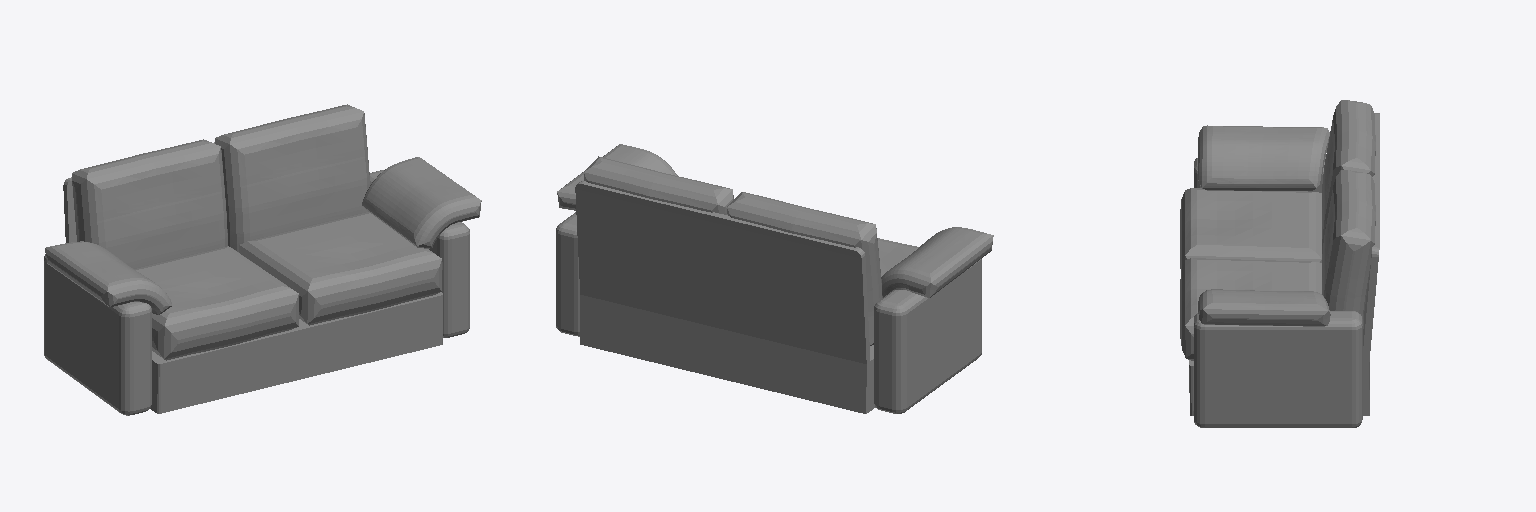
The model's file is Sofa.obj.
3 renders of one model, left to right at view 1: azimuth 30°, elevation 25°; view 2: azimuth 150°, elevation 25°; view 3: azimuth 270°, elevation 25°, orthographic.
Visible parts, largest first — view 1: Group_1_001, Component_3_001, Group_1_003, Group_3_001, Group_3_002, Group_10_002, Group_2_001, Group_2_003, Group_10_001; view 2: Component_3_001, Group_10_002, Group_1_003, Group_2_003, Group_1_001, Group_10_001, Group_2_001, Group_3_002; view 3: Group_10_001, Group_3_002, Group_2_003, Group_1_001, Group_3_001, Group_2_001, Group_1_003, Component_3_001.
Boxes of the visible parts, <box> form: Group_1_001: <box>215,104,369,251</box>; Component_3_001: <box>63,142,442,413</box>; Group_1_003: <box>72,139,227,268</box>; Group_3_001: <box>239,212,442,325</box>; Group_3_002: <box>134,246,298,360</box>; Group_10_002: <box>44,254,151,415</box>; Group_2_001: <box>362,157,481,248</box>; Group_2_003: <box>45,241,171,314</box>; Group_10_001: <box>370,170,469,337</box>; Component_3_001: <box>575,181,875,413</box>; Group_10_002: <box>874,259,981,413</box>; Group_1_003: <box>727,192,882,345</box>; Group_2_003: <box>881,227,993,297</box>; Group_1_001: <box>584,156,733,214</box>; Group_10_001: <box>556,212,579,336</box>; Group_2_001: <box>557,144,677,210</box>; Group_3_002: <box>878,238,918,276</box>; Group_10_001: <box>1194,311,1362,427</box>; Group_3_002: <box>1180,188,1321,268</box>; Group_2_003: <box>1198,125,1329,190</box>; Group_1_001: <box>1322,170,1375,328</box>; Group_3_001: <box>1180,258,1321,360</box>; Group_2_001: <box>1198,289,1330,326</box>; Group_1_003: <box>1322,100,1375,253</box>; Component_3_001: <box>1189,113,1379,415</box>.
Size of the model in its own units: 2372 by 1087 by 1084.